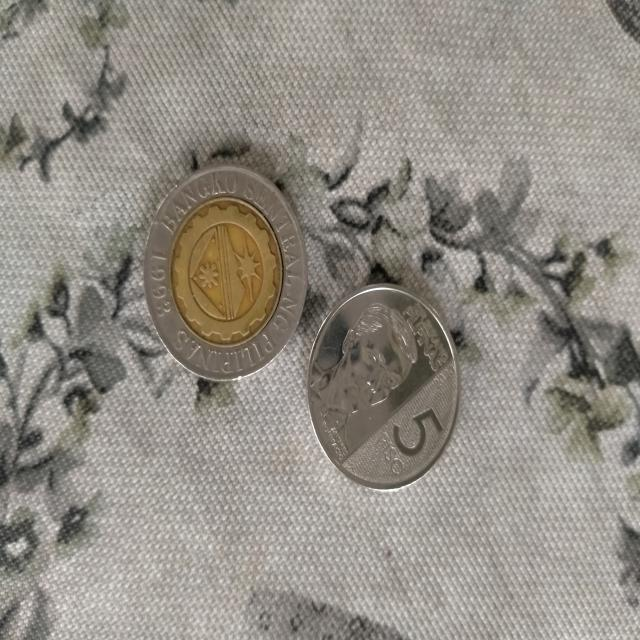10_Old_Back: (144, 162, 306, 374)
5_New_Front: (372, 397, 444, 472)
